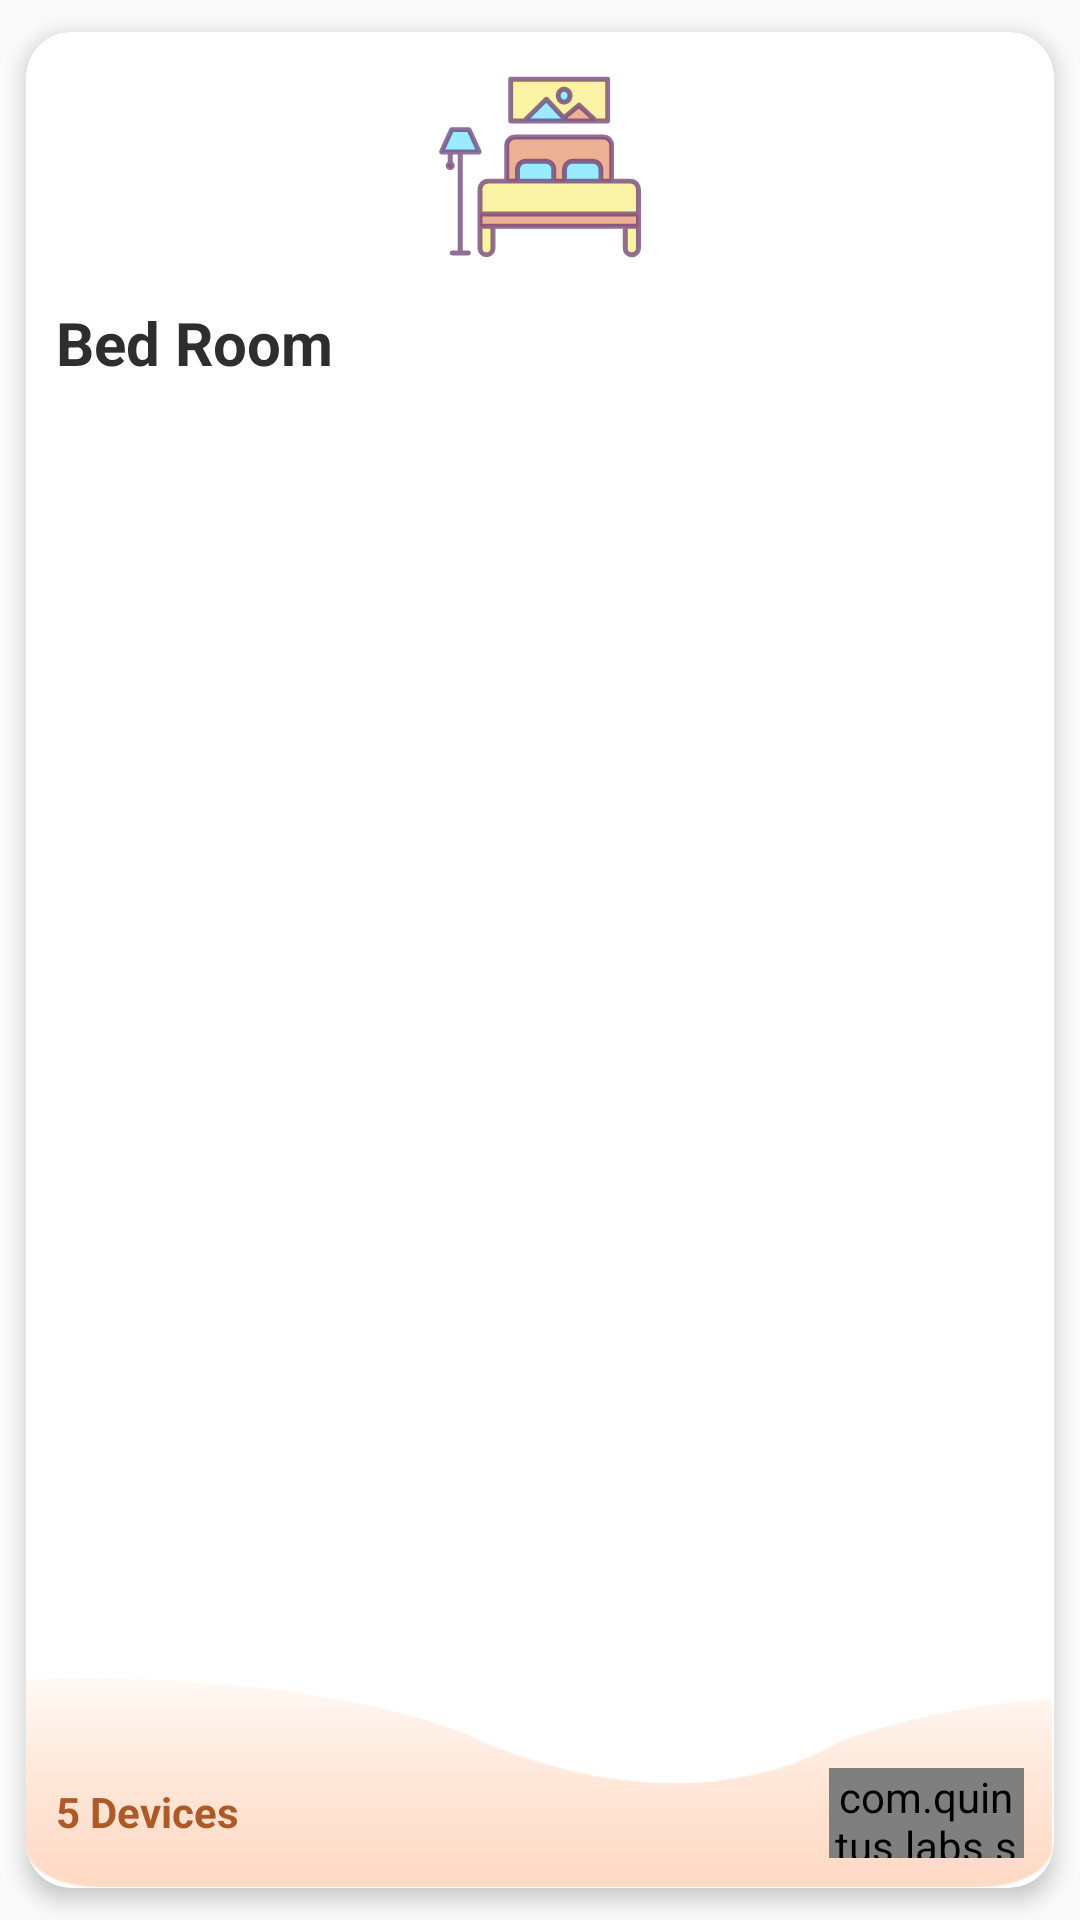

Icons on this 1080px x 1920px Android screen, each with its box as (x1, y1, x2, y2):
double bed: (439, 76, 641, 258)
